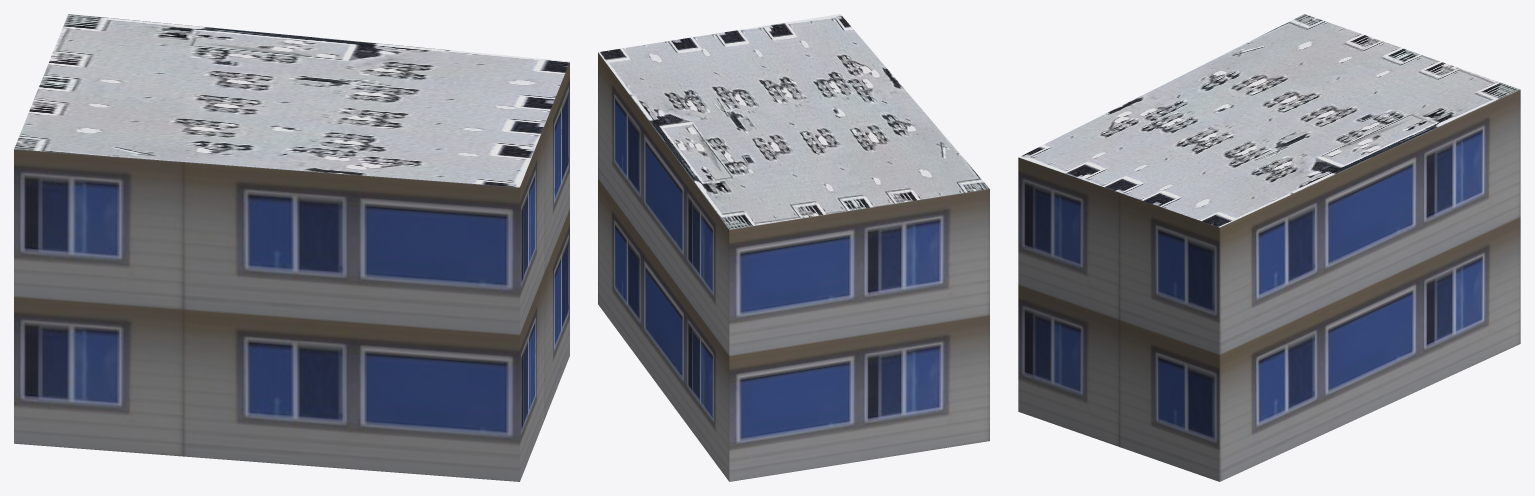
The model's file is ResTex__1174.fbx.
The picture shows the model from 3 angles, left to right: view 1: azimuth 30°, elevation 25°; view 2: azimuth 150°, elevation 25°; view 3: azimuth 270°, elevation 25°; orthographic projection. The views are drawn at different scales.
Parts seen in each view (by area): view 1: CityEngineMaterial_23_m, CityEngineMaterial_4_m; view 2: CityEngineMaterial_23_m, CityEngineMaterial_4_m; view 3: CityEngineMaterial_23_m, CityEngineMaterial_4_m.
Boxes of the visible parts, x1,y1,x2,y2 form: CityEngineMaterial_23_m: [14, 62, 569, 481]; CityEngineMaterial_4_m: [14, 14, 569, 187]; CityEngineMaterial_23_m: [598, 52, 989, 481]; CityEngineMaterial_4_m: [598, 14, 989, 229]; CityEngineMaterial_23_m: [1018, 89, 1520, 481]; CityEngineMaterial_4_m: [1019, 14, 1519, 227].
Bounding box in the file's own units: 10.8 × 6 × 10.73.
2 materials, 2 textured.
